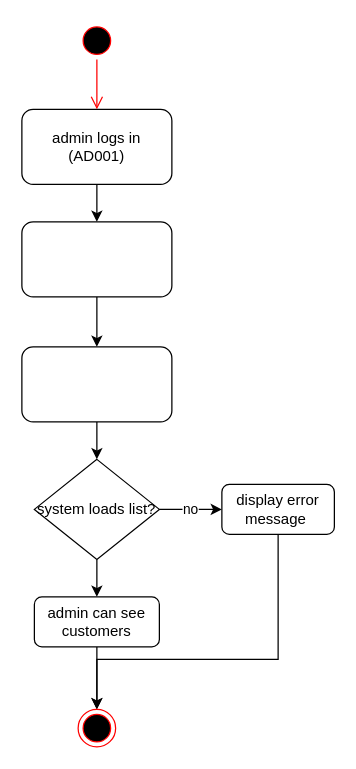
Some shapes in this 356 by 769 pixel diagram are drawn without their labels. The shapes that lost their labels are listed below. From the top down, each one's centre as x and y in pixels, then its label:
At pixel 96 259: "navigates to customers section".
At pixel 96 384: "click view all customers".
